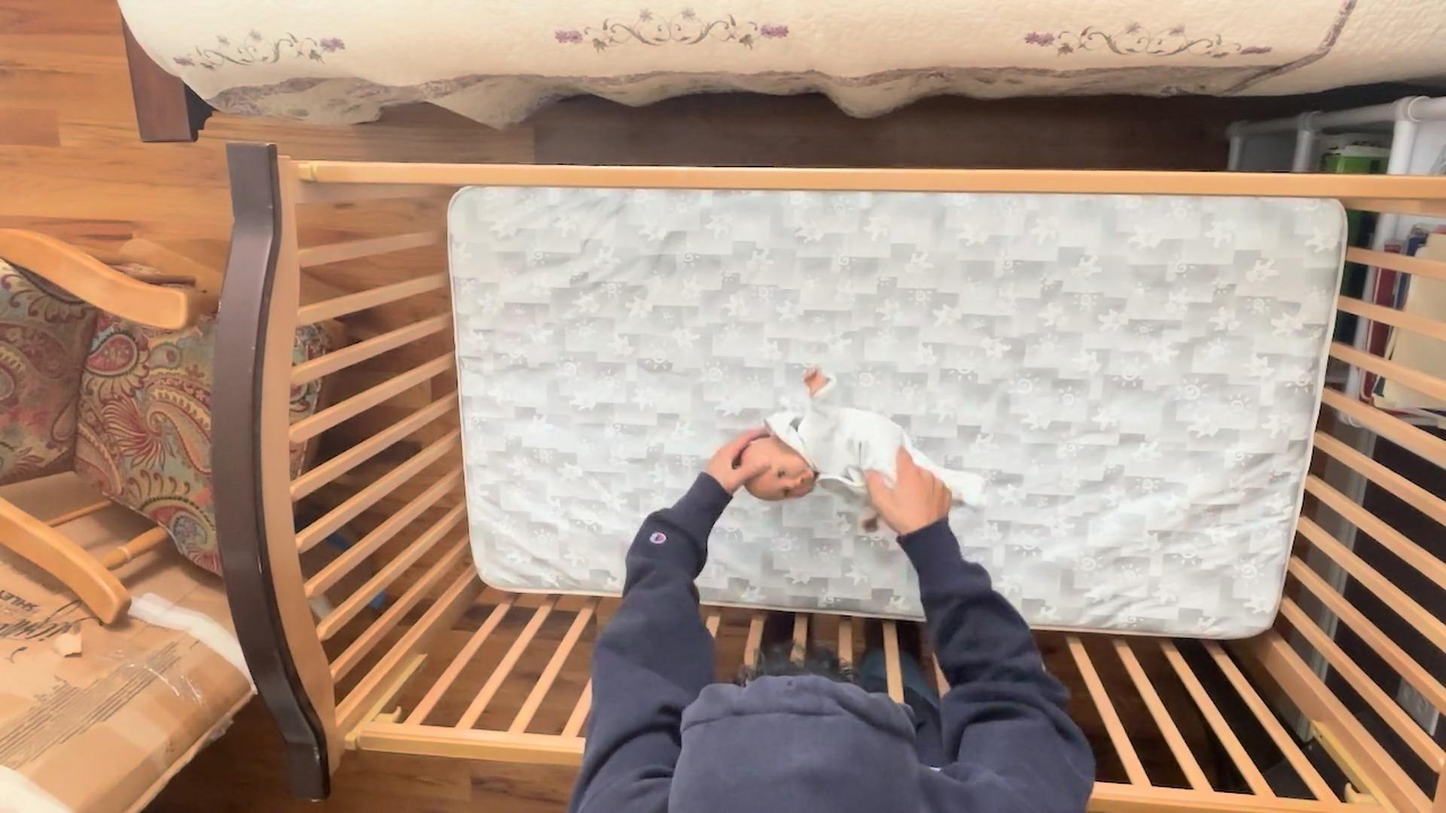baby: (735, 364, 990, 538)
